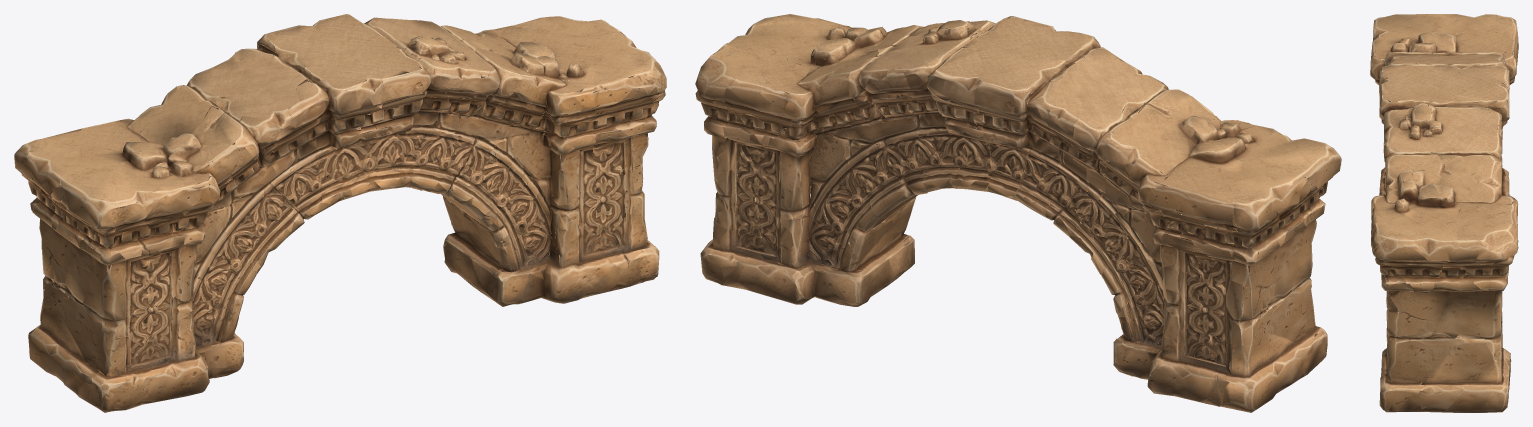
File: LowArch.fbx
The picture shows the model from 3 angles, left to right: view 1: azimuth 30°, elevation 25°; view 2: azimuth 150°, elevation 25°; view 3: azimuth 270°, elevation 25°; orthographic projection. The views are drawn at different scales.
Visible parts, largest first — view 1: LowArch.029; view 2: LowArch.029; view 3: LowArch.029.
Part boxes in pixels (box(x1,y1,x2,y2)): LowArch.029: box(14, 14, 666, 412); LowArch.029: box(695, 14, 1341, 412); LowArch.029: box(1370, 14, 1518, 412).
Bounding box in the file's own units: 6.07 × 2.75 × 1.64.
1 material, 1 textured.
